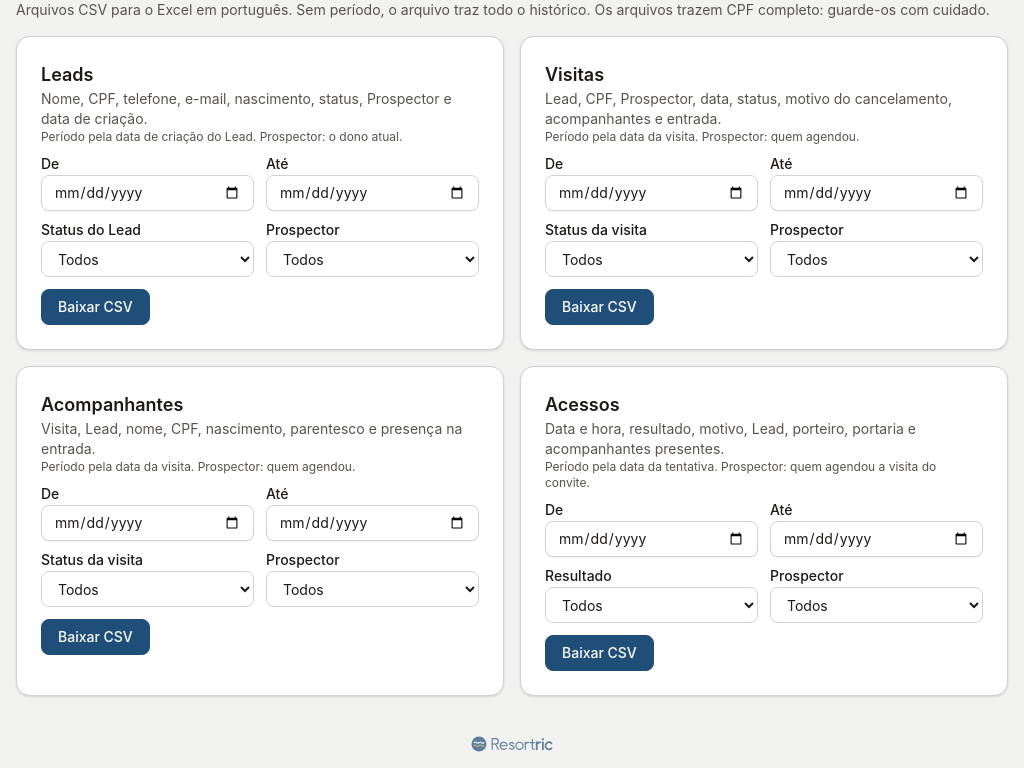
it: XF2 — blocos de exportação › erro 0 aparece em português no bloco
The width and height of the screenshot is (1024, 768).
(page scrolled)
Click the 3rd button "Baixar CSV": (95, 637) [41,619,150,655]
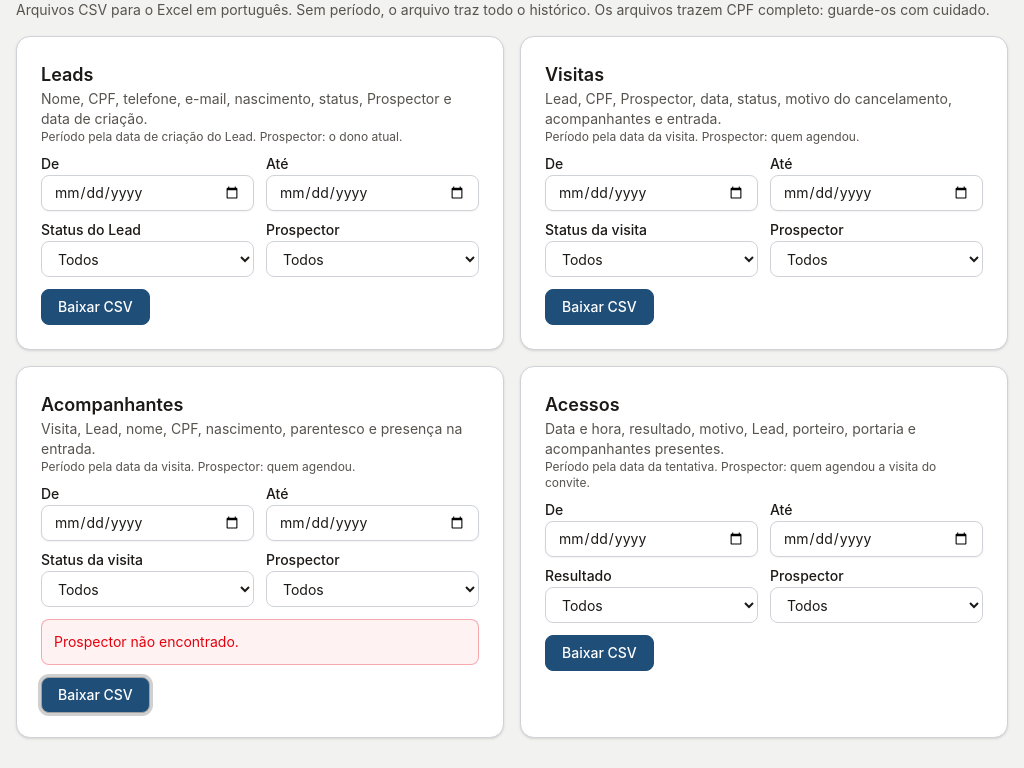
Now the message reads "Prospector não encontrado.", box [54,633,239,650]
